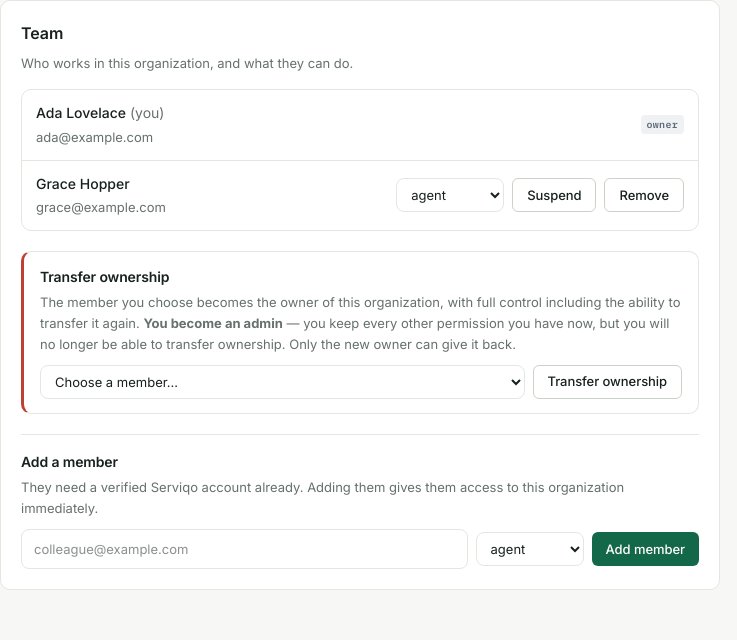
it: TeamManagement › adding a member › keeps a refused address on screen for correction
This screenshot has width=737, height=640.
Expected: the text "Grace Hopper" is shown, left=36, top=175, right=130, bottom=192
Type "ghost@example.com" into the field named "email address" at x=244, y=549, box left=21, top=528, right=468, bottom=569
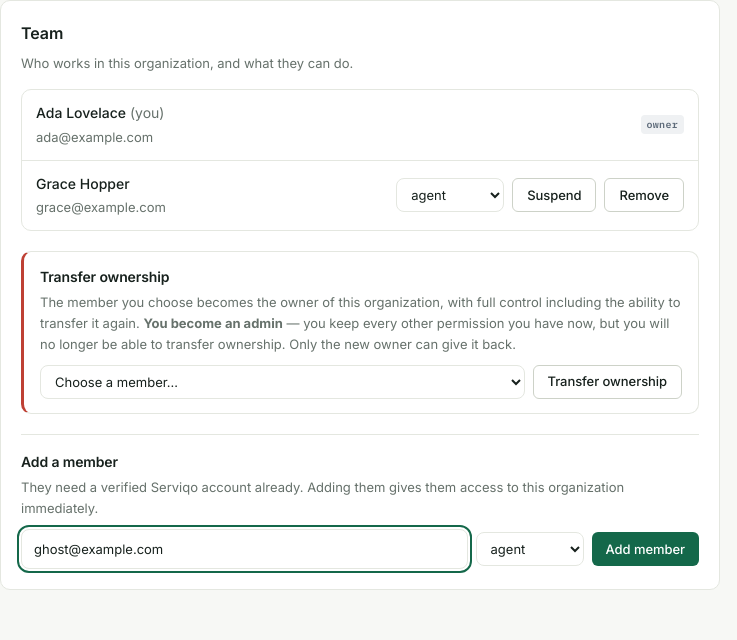
Click the button "Add member" at x=645, y=549, box left=592, top=532, right=699, bottom=566
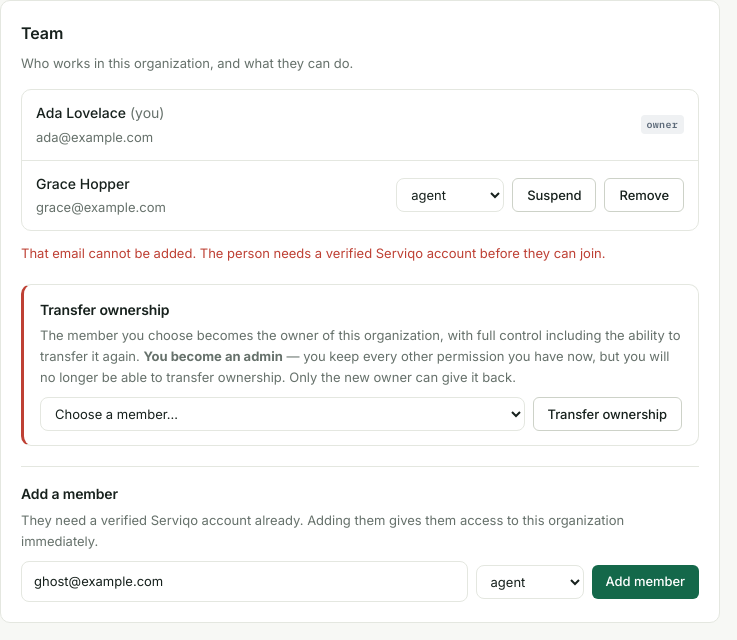
Now the message shows "needs a verified Serviqo account", box left=21, top=245, right=606, bottom=261
